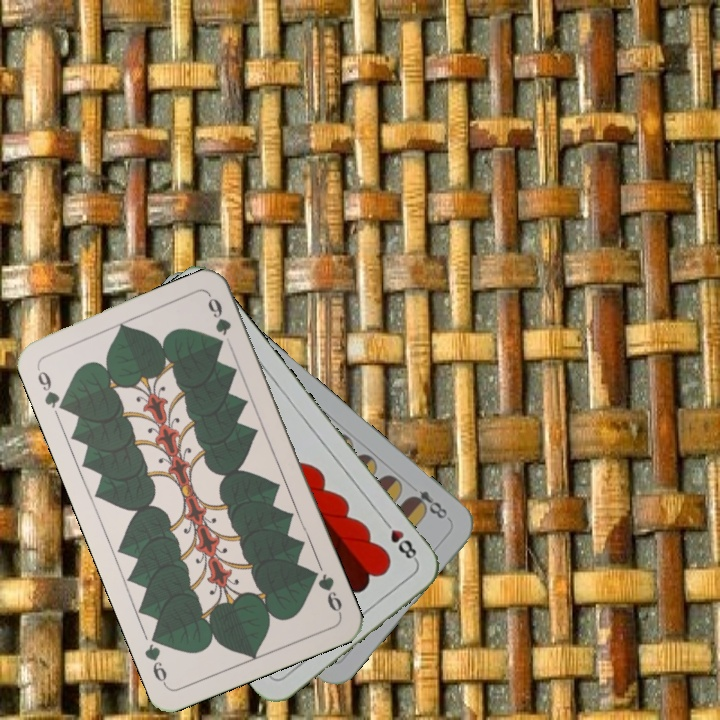E8: (404, 486, 453, 523)
G9: (306, 565, 345, 618), (32, 361, 71, 414)
H8: (378, 514, 420, 564)
